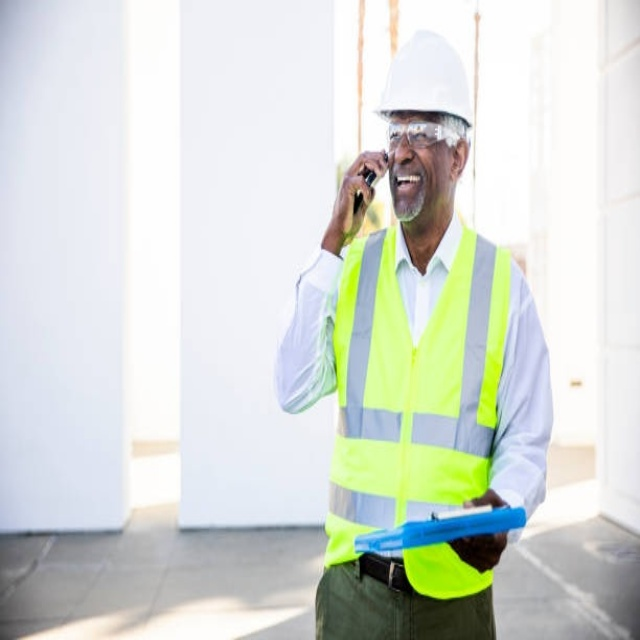Gafas: (383, 121, 466, 152)
Sin_guantes: (327, 149, 391, 240), (446, 489, 511, 574)
Sin_mascara: (392, 165, 425, 215)
